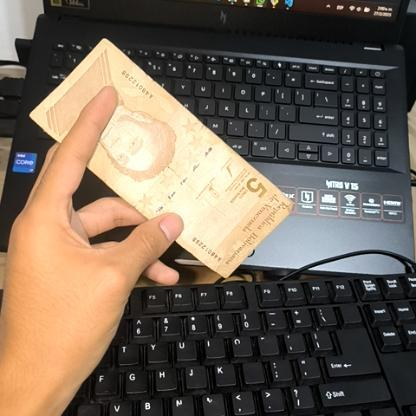five-front-vef: (26, 36, 296, 277)
